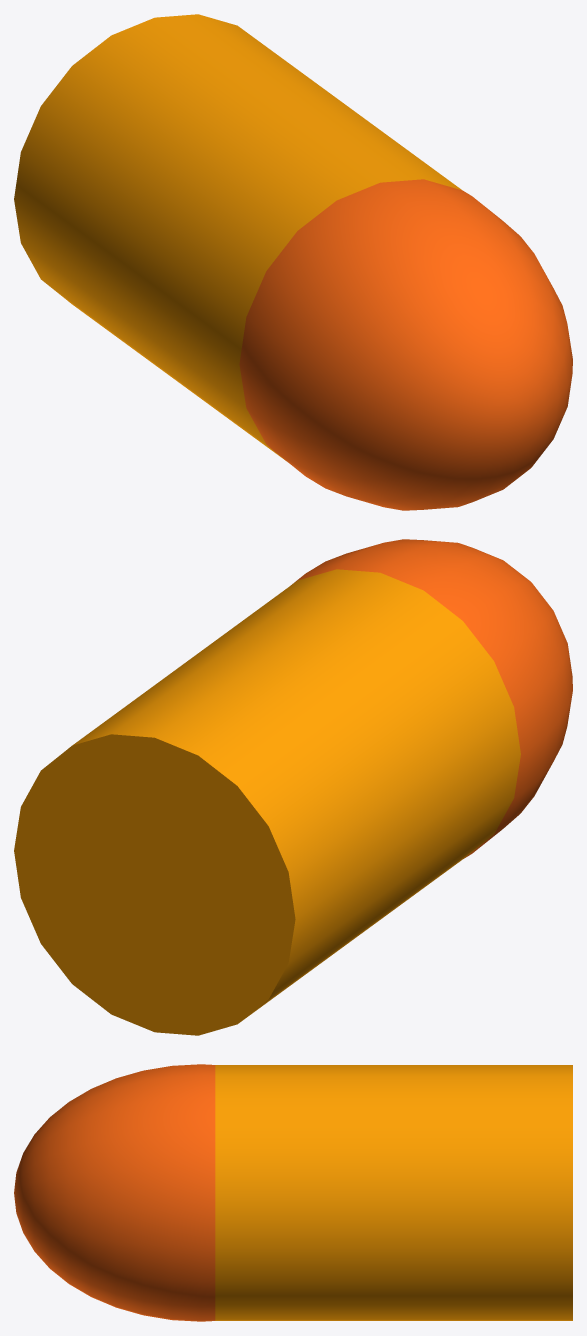
File: bullet_001.obj
The picture shows the model from 3 angles, top to bottom: view 1: azimuth 30°, elevation 25°; view 2: azimuth 150°, elevation 25°; view 3: azimuth 270°, elevation 25°; orthographic projection. The views are drawn at different scales.
Parts seen in each view (by area): view 1: pCylinder1, pSphere1; view 2: pCylinder1, pSphere1; view 3: pCylinder1, pSphere1.
Part boxes in pixels (x1,y1,x2,y2): pCylinder1: [14, 14, 461, 461]; pSphere1: [239, 179, 572, 510]; pCylinder1: [14, 569, 520, 1035]; pSphere1: [292, 539, 572, 858]; pCylinder1: [215, 1065, 572, 1320]; pSphere1: [14, 1064, 215, 1321].
Size of the model in its own units: 0.5286 by 0.5286 by 1.14.
